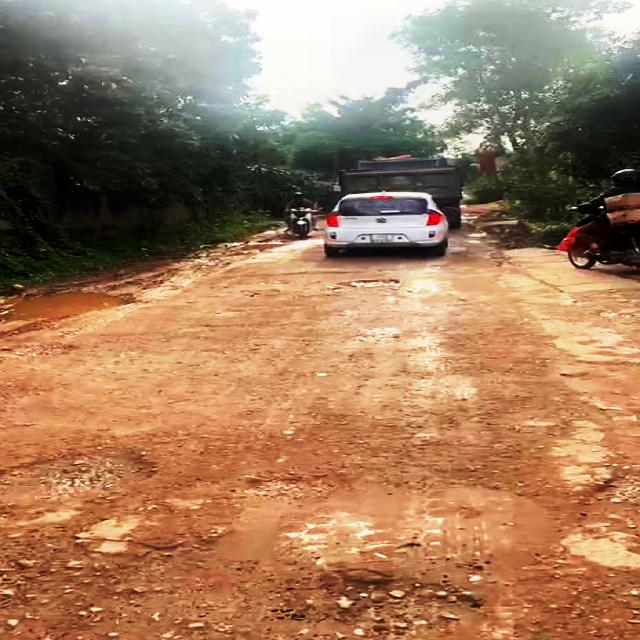pothole: (538, 356, 640, 605), (0, 443, 159, 508), (0, 288, 139, 326), (328, 278, 407, 291)
